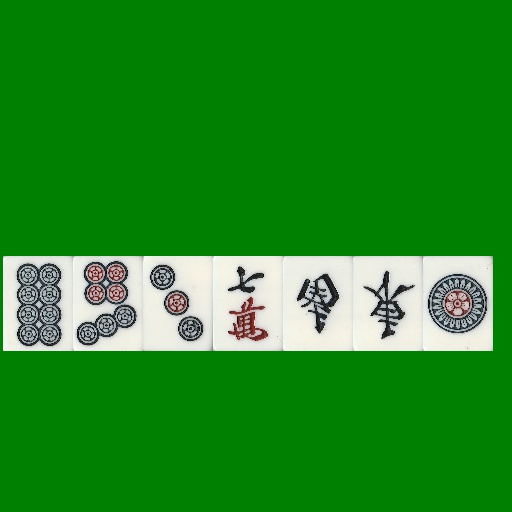1p: (423, 256, 493, 351)
3p: (143, 256, 213, 351)
7m: (213, 256, 283, 351)
7p: (73, 256, 143, 351)
8p: (3, 256, 73, 351)
east: (353, 256, 423, 351)
south: (283, 256, 353, 351)
